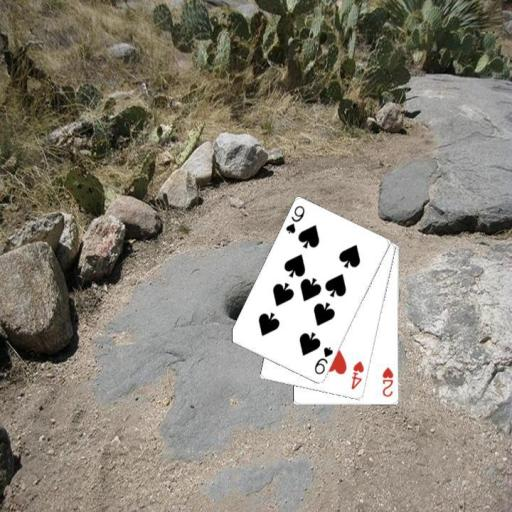2H: (380, 364, 395, 399)
4H: (348, 359, 366, 391)
9S: (311, 344, 335, 376), (283, 203, 307, 235)
